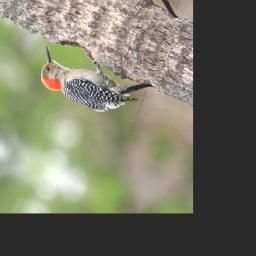Woodpecker: (27, 33, 161, 137)
